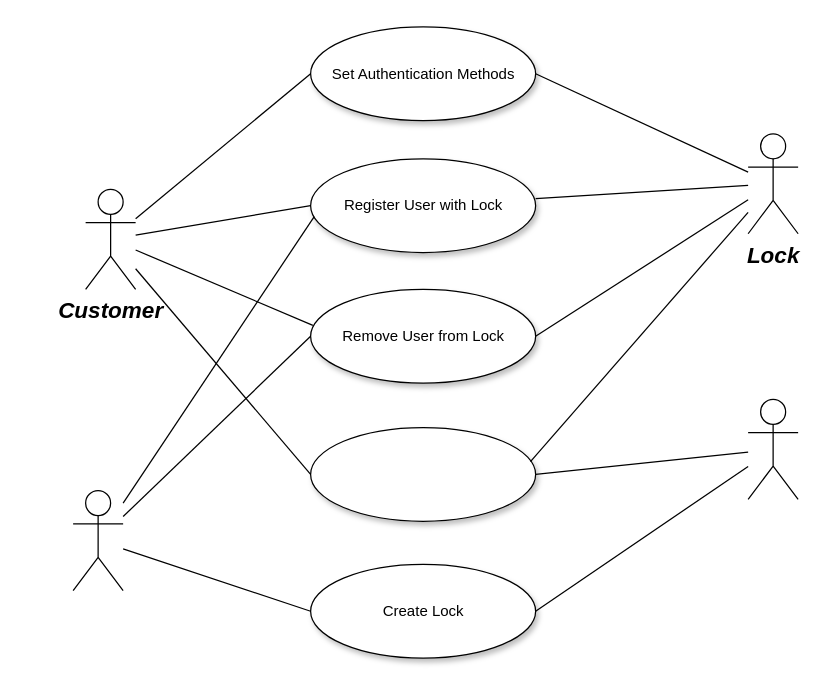
Some shapes in this 834 by 689 pixel diagram are drawn without their labels. Here are the shapes that lost their labels. From the top down, the centre of each, then its label:
At pixel 772 448: "Lock System".
At pixel 423 475: "Open Lock".
At pixel 97 540: "Facility Admin".
